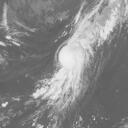cyclone: (56, 34, 90, 76)
